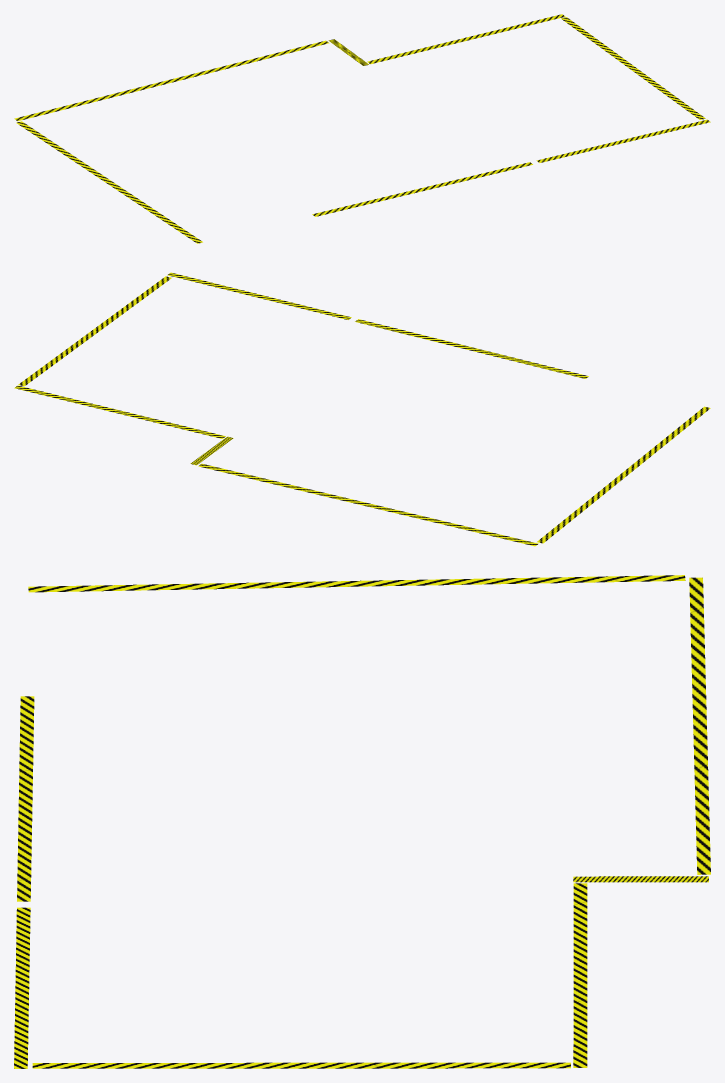
File: Caution_tape_Perimeter.fbx
3 renders of one model, top to bottom at view 1: azimuth 30°, elevation 25°; view 2: azimuth 150°, elevation 25°; view 3: azimuth 270°, elevation 25°, orthographic. The views are drawn at different scales.
Parts seen in each view (by area): view 1: Caution_TapePerimeter; view 2: Caution_TapePerimeter; view 3: Caution_TapePerimeter.
Boxes of the visible parts, x1,y1,x2,y2 form: Caution_TapePerimeter: (14,14,710,243); Caution_TapePerimeter: (14,272,710,546); Caution_TapePerimeter: (14,575,710,1068).
Size of the model in its own units: 536 by 0 by 320.
Materials: 1 (1 with a texture image).
